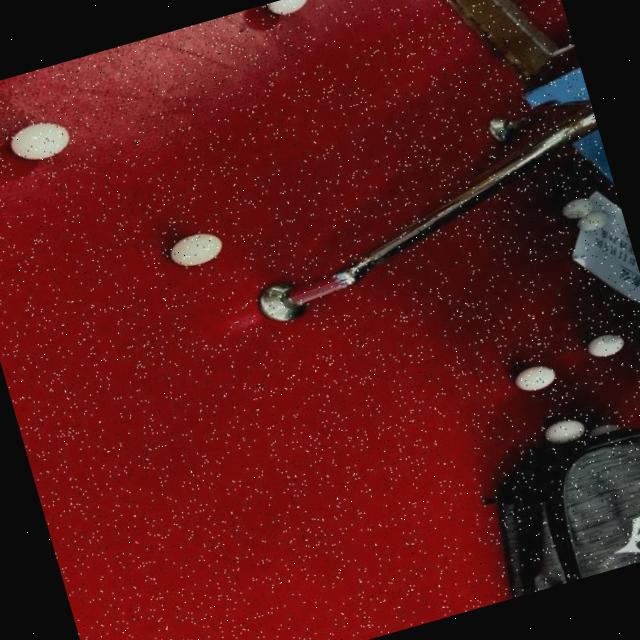ping-pong-ball: (1, 112, 76, 168), (162, 225, 226, 271), (537, 412, 588, 449), (508, 359, 558, 396), (582, 327, 626, 361), (556, 192, 594, 222), (572, 206, 610, 234), (263, 0, 309, 18)
